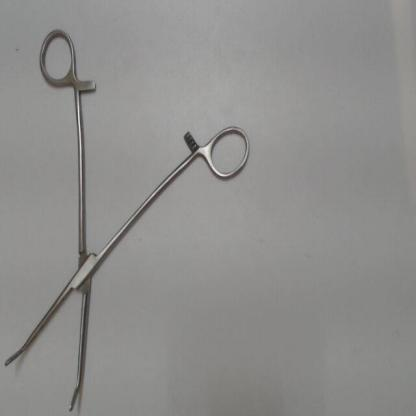Lahey Forceps: (2, 25, 257, 414)
